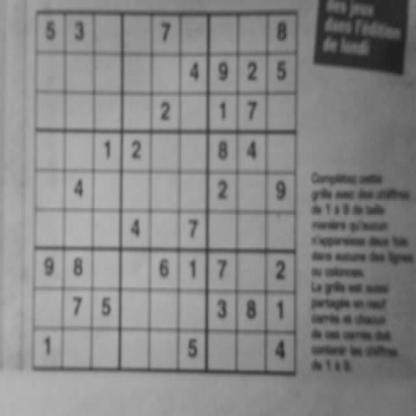sudoku: (28, 6, 304, 382)
